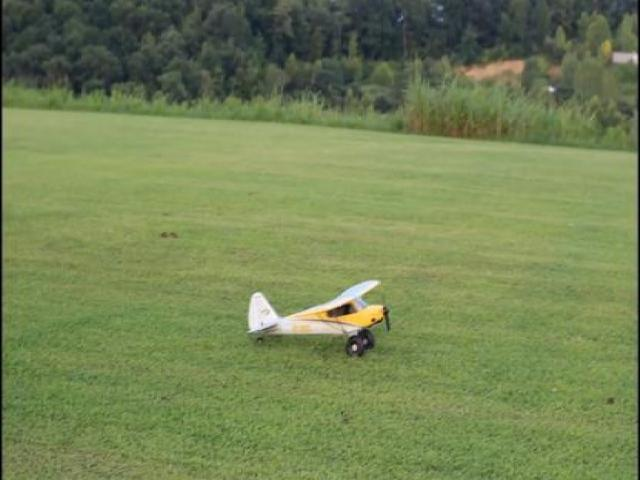uav: (239, 274, 399, 362)
